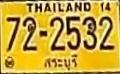2: (49, 16, 64, 50), (99, 15, 113, 49), (22, 16, 36, 50)
3: (82, 15, 96, 49)
5: (65, 15, 80, 49)
7: (6, 16, 20, 51)
SRI: (42, 54, 78, 71)
